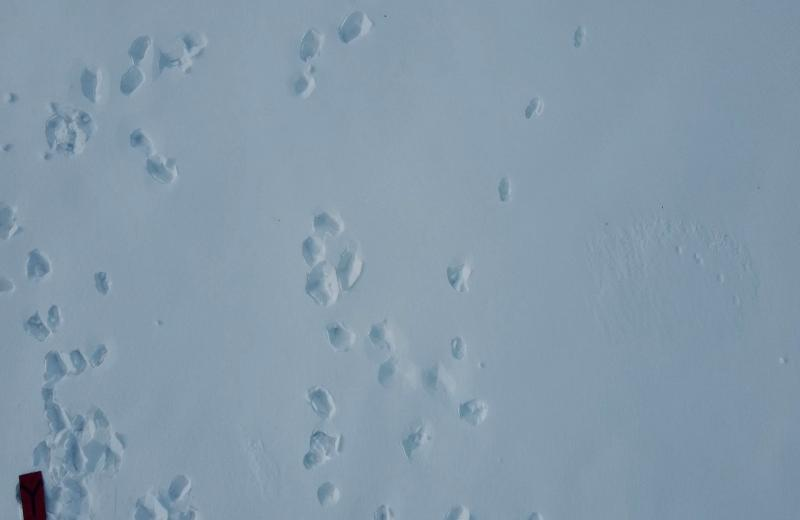Rectangle: (16, 468, 48, 520)
